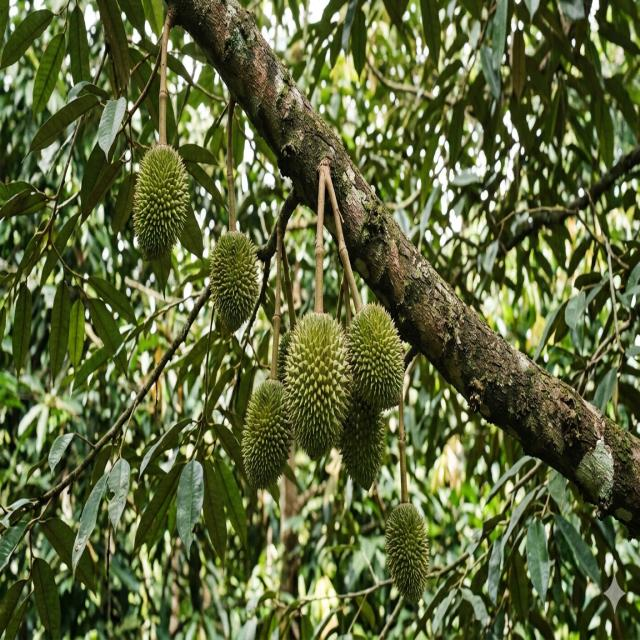immature: (282, 309, 351, 460), (132, 143, 192, 262), (344, 301, 405, 415), (240, 378, 296, 492), (207, 229, 262, 330), (338, 387, 388, 488), (384, 500, 430, 602), (276, 326, 296, 382)
